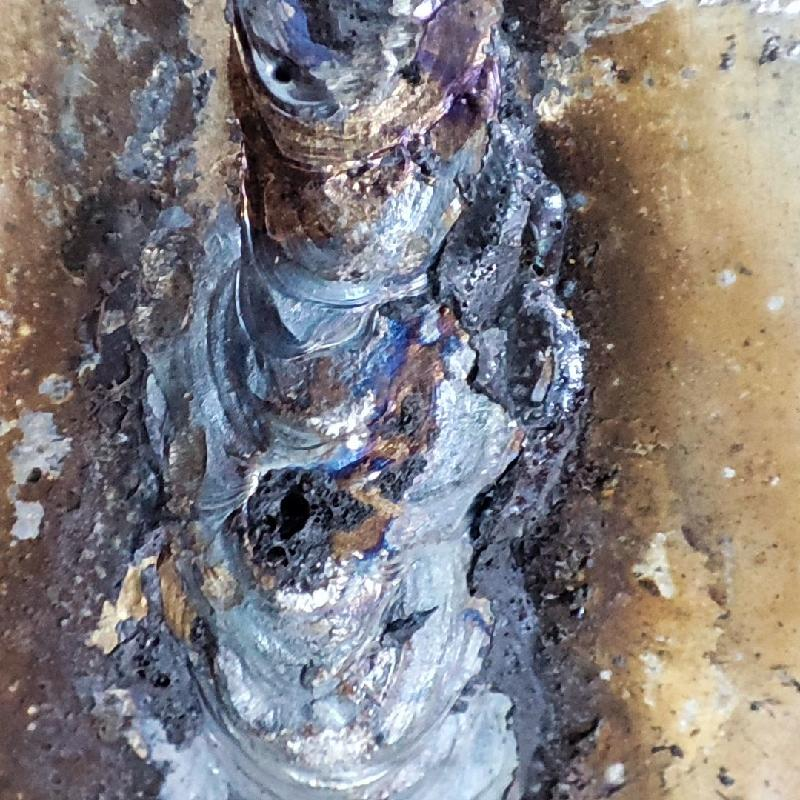Surface_pores: (235, 450, 362, 580), (253, 49, 318, 107)
